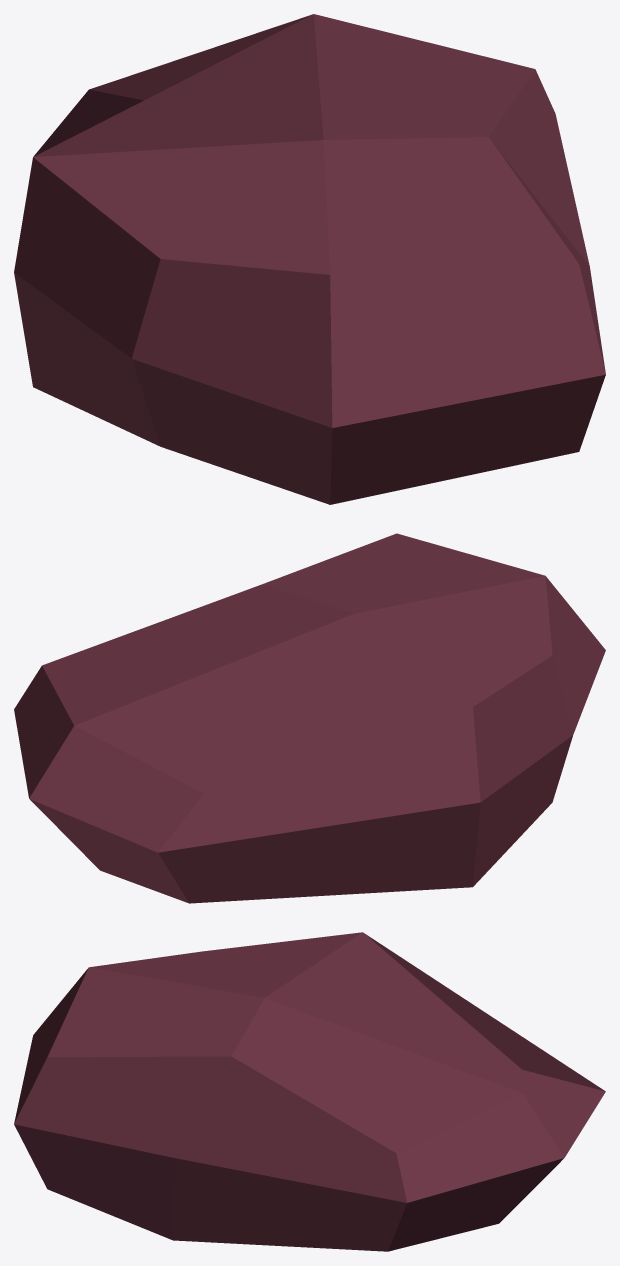
The model's file is rock-red.fbx.
3 renders of one model, top to bottom at view 1: azimuth 30°, elevation 25°; view 2: azimuth 150°, elevation 25°; view 3: azimuth 270°, elevation 25°, orthographic. The views are drawn at different scales.
Parts seen in each view (by area): view 1: rock_red; view 2: rock_red; view 3: rock_red.
Boxes of the visible parts, bbox=[...] form: rock_red: bbox=[14, 14, 605, 504]; rock_red: bbox=[14, 533, 605, 903]; rock_red: bbox=[14, 932, 605, 1251].
Bounding box in the file's own units: 2.26 × 1.07 × 2.9.
